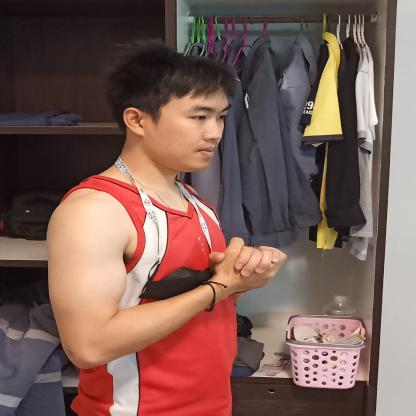Grieve: (179, 220, 346, 308)
